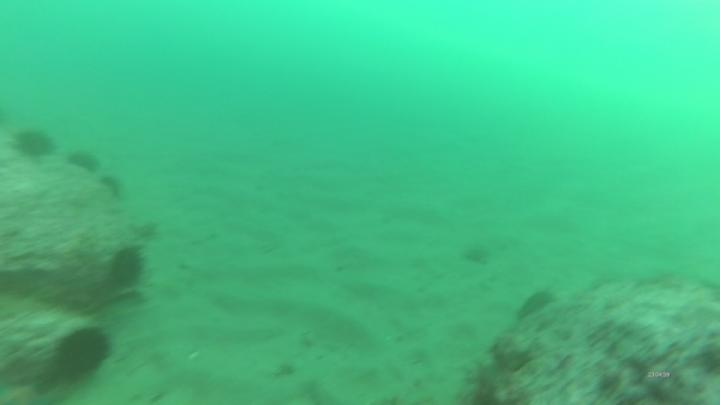echinus: (59, 331, 111, 373), (113, 252, 143, 287), (17, 131, 54, 156), (71, 150, 100, 169)
